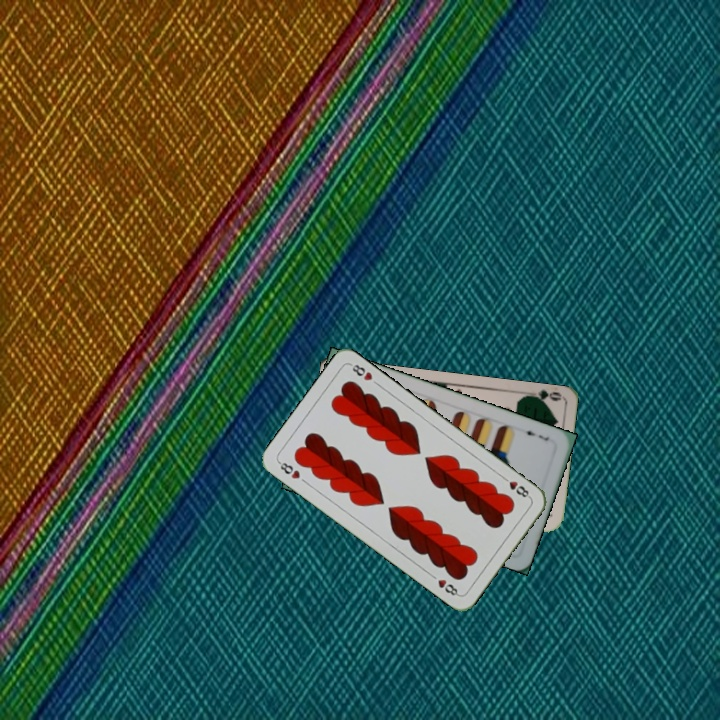E7: (518, 425, 551, 443)
GO: (521, 386, 563, 407)
H8: (498, 472, 533, 501), (274, 458, 303, 482)
